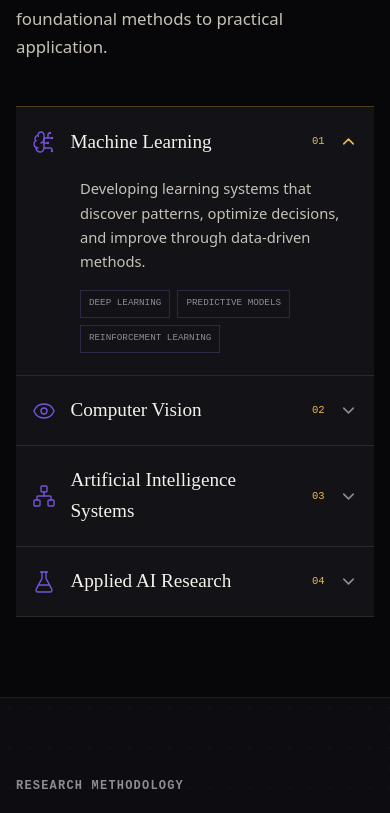
Research Areas page › provides a keyboard-operable single-open mobile accordion
(page scrolled)
Click the button "Computer Vision 02". click: (195, 411)
box: [16,376,374,445]
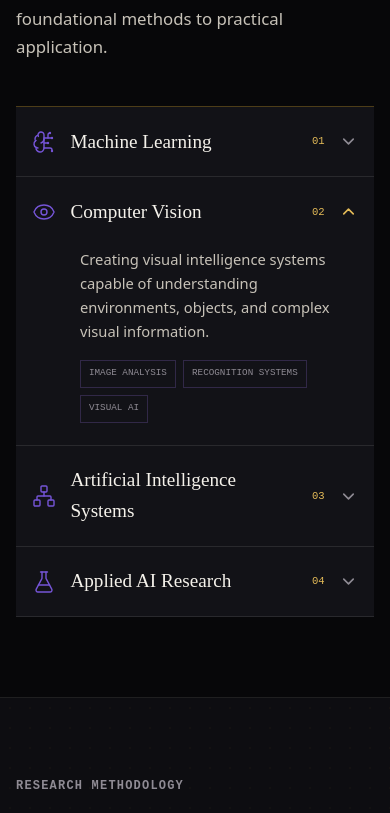
Expected: the button "Machine Learning 01" is collapsed, [16,107,374,176]
Expected: the button "Computer Vision 02" is expanded
Press Enter in the button "Computer Vision 02", box [16,177,374,246]
Click the button "Computer Vision 02". click: (195, 212)
box: [16,177,374,246]
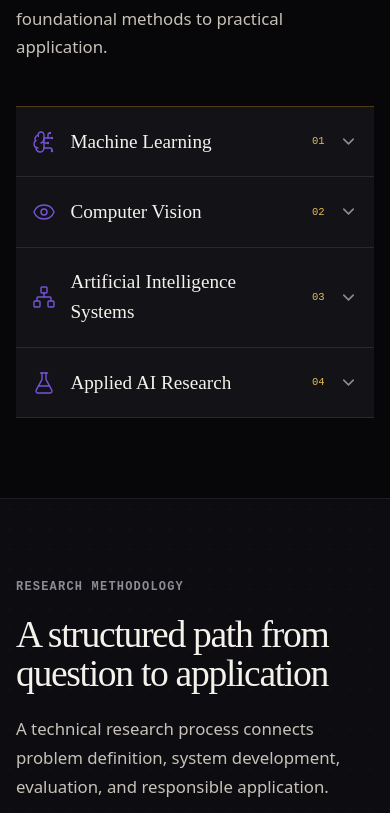
Expected: the button "Computer Vision 02" is collapsed, [16,177,374,246]
